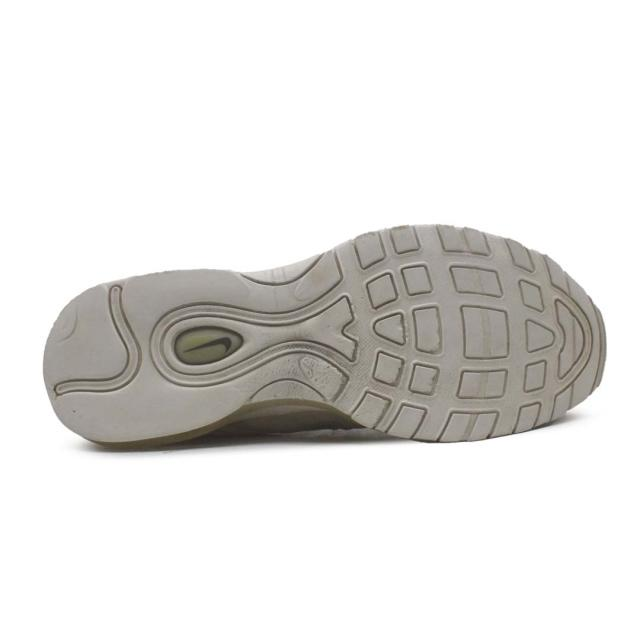outersole: (42, 225, 606, 446)
